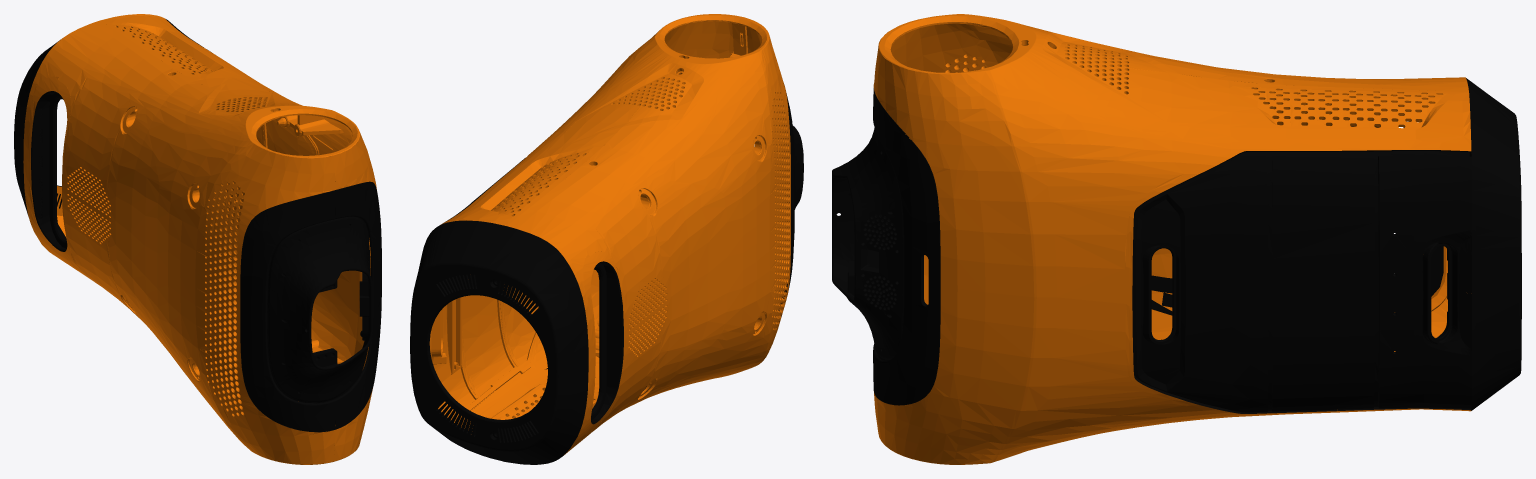
Rendered from torso.glb.
3 views of the same model, side by side, from view 1: azimuth 30°, elevation 25°; view 2: azimuth 150°, elevation 25°; view 3: azimuth 270°, elevation 25° (orthographic). The views are drawn at different scales.
Visible parts, largest first — view 1: link5.036, link5.001; view 2: link5.036, link5.001; view 3: link5.036, link5.001, link5.047.
Boxes of the visible parts, x1,y1,x2,y2 form: link5.036: (14, 14, 381, 464); link5.001: (267, 216, 372, 403); link5.036: (410, 14, 794, 464); link5.001: (792, 125, 803, 209); link5.036: (873, 14, 1521, 464); link5.001: (832, 127, 903, 360); link5.047: (1142, 242, 1181, 347).
Size of the model in its own units: 0.208 by 0.3525 by 0.5577.
